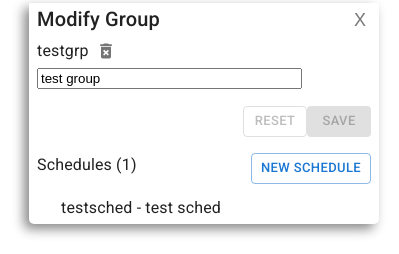
Test: schedgrputil - modify › enables reset and save after descr modification
This screenshot has width=399, height=254.
Type "new desc" into the field with test id "descrInput". click: (170, 78)
box: left=37, top=68, right=302, bottom=89
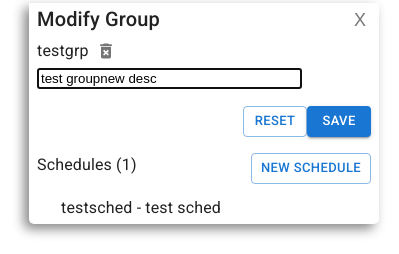
Check: the button "Reset" is enabled, box left=243, top=106, right=307, bottom=137
Check: the button "Save" is enabled, box left=307, top=106, right=371, bottom=137
